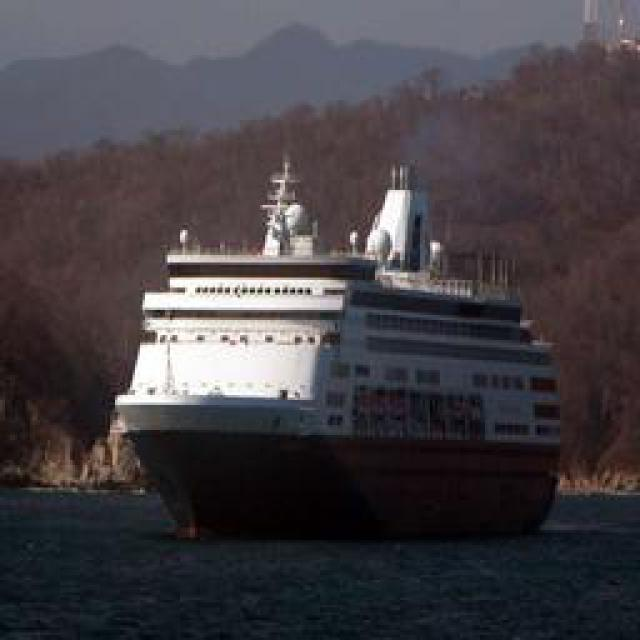Ship: (121, 155, 579, 547)
